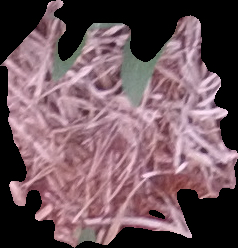soil: (2, 1, 236, 247)
